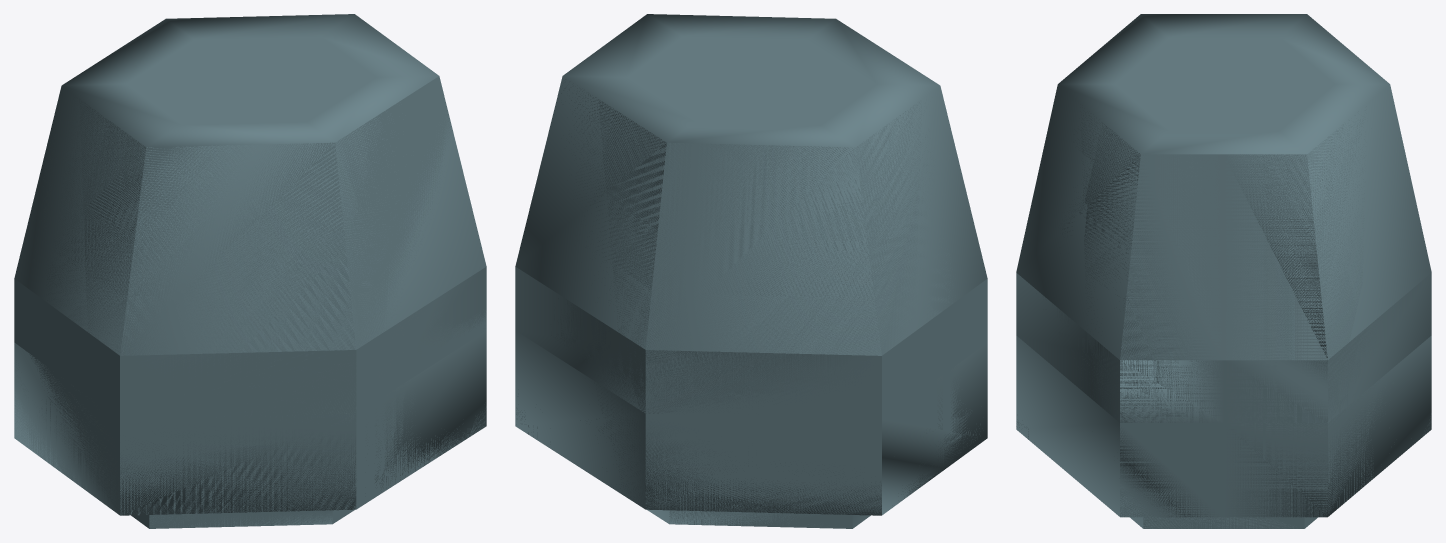
File: space-kit__machine_barrel.glb
3 views of the same model, side by side, from view 1: azimuth 30°, elevation 25°; view 2: azimuth 150°, elevation 25°; view 3: azimuth 270°, elevation 25° (orthographic).
Visible parts, largest first — view 1: L1_dark, L0_dark; view 2: L1_dark, L0_dark; view 3: L1_dark, L0_dark.
Part boxes in pixels (box(x1,y1,x2,y2)): L1_dark: box(14, 14, 486, 527); L0_dark: box(14, 76, 486, 528); L1_dark: box(515, 14, 987, 528); L0_dark: box(516, 77, 980, 528); L1_dark: box(1016, 14, 1431, 528); L0_dark: box(1016, 106, 1429, 528).
Size of the model in its own units: 1 by 1 by 1.
